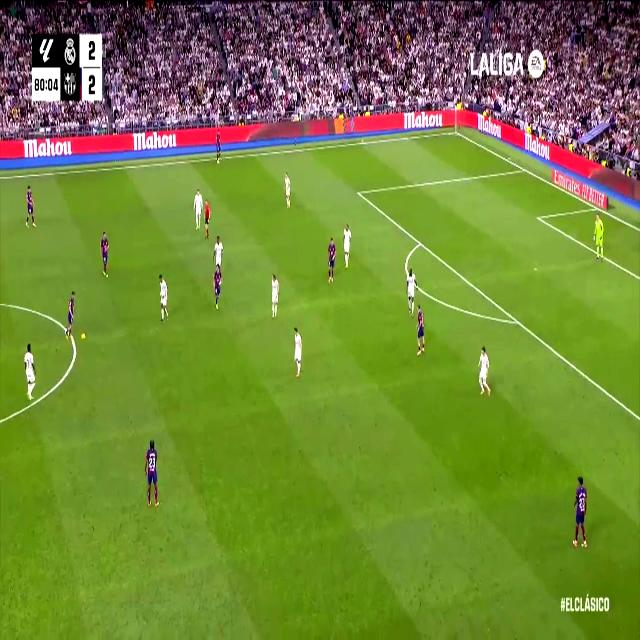bigarea_top_inner: (356, 186, 361, 199)
bigarea_top_outter: (519, 162, 527, 174)
bottom_arc_area_intersection: (512, 311, 522, 331)
corner: (451, 124, 461, 136)
smallarea_top_inner: (534, 210, 542, 224)
top_arc_area_intersection: (416, 234, 424, 250)
